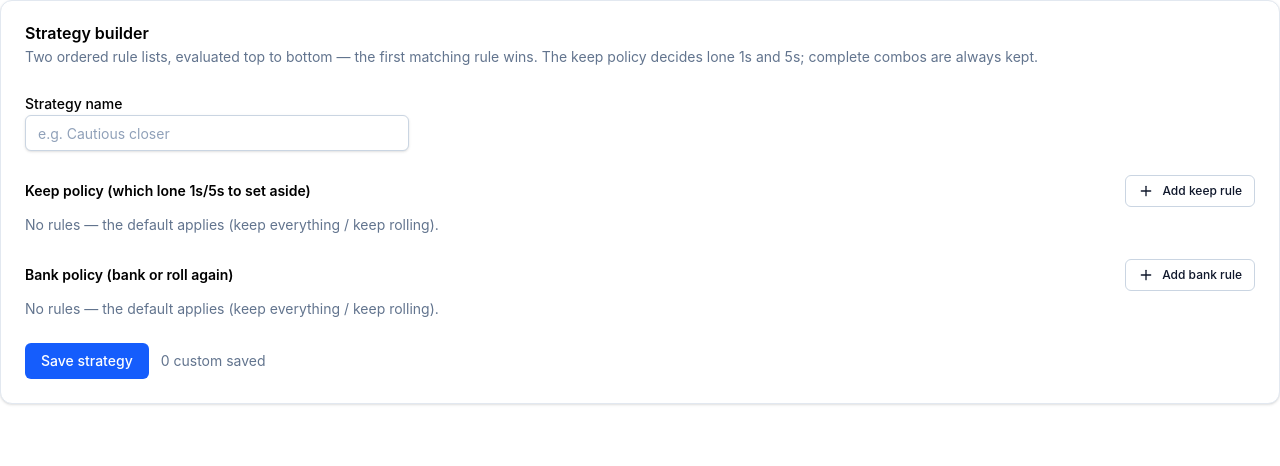
Test: BuilderPage › refuses to save without a name
Click the button "Save strategy": [87, 361] box [25,343,149,379]
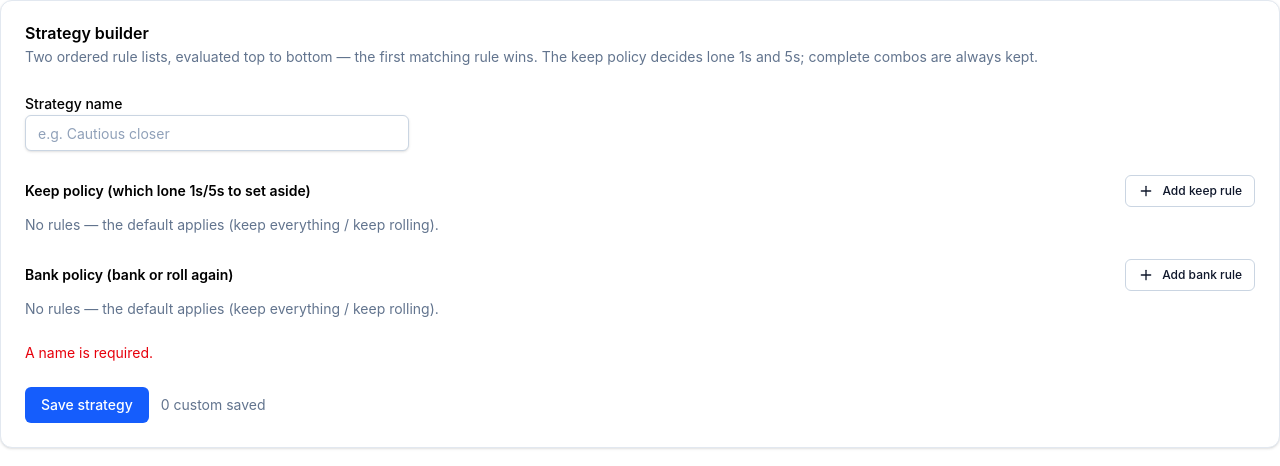
Expected: the text "A name is required." is shown, [25,344,153,361]
